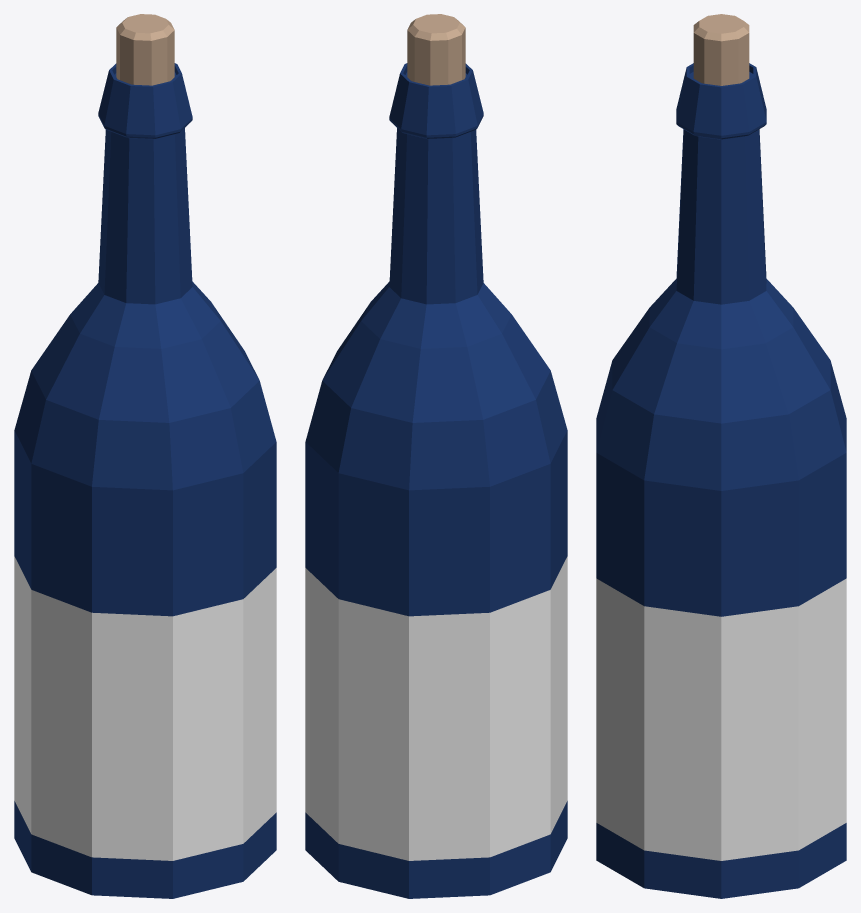
Rendered from bottle3.glb.
3 renders of one model, left to right at view 1: azimuth 30°, elevation 25°; view 2: azimuth 150°, elevation 25°; view 3: azimuth 270°, elevation 25°, orthographic.
Parts seen in each view (by area): view 1: pCylinder2_yecan_blue_0; view 2: pCylinder2_yecan_blue_0; view 3: pCylinder2_yecan_blue_0.
Part boxes in pixels (box(x1,y1,x2,y2)): pCylinder2_yecan_blue_0: box(14, 14, 276, 898); pCylinder2_yecan_blue_0: box(305, 14, 567, 898); pCylinder2_yecan_blue_0: box(596, 14, 846, 898).
Bounding box in the file's own units: 42.7 × 147 × 40.61.
3 materials, 3 textured.
